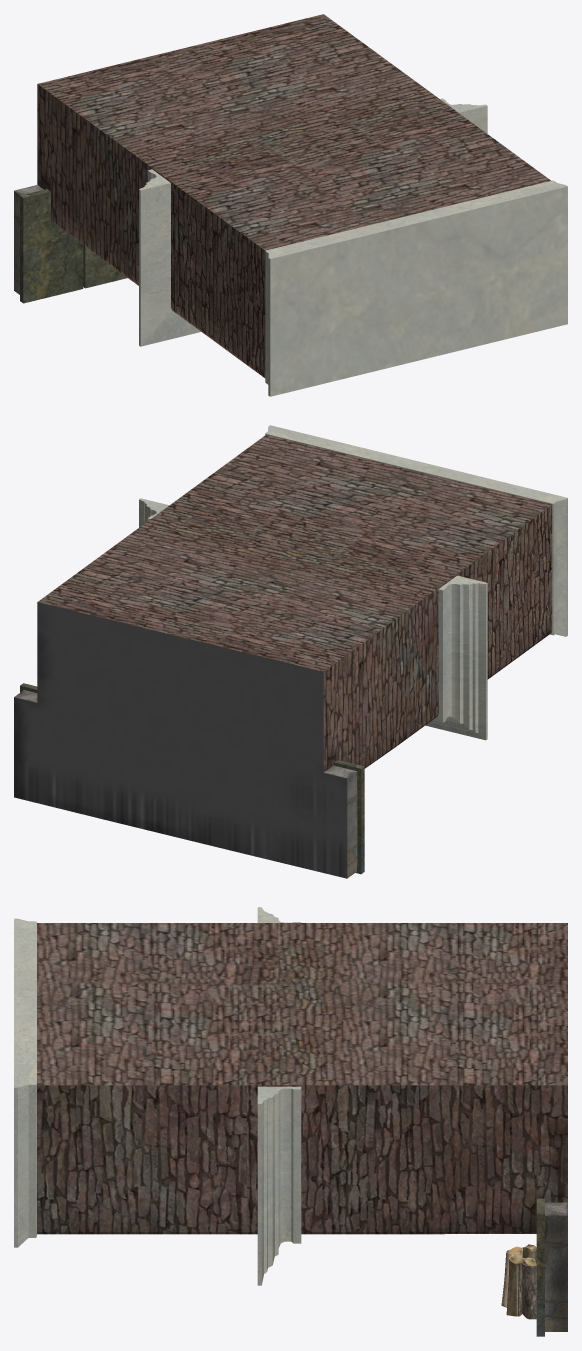
File: 13110_Fireplace_v2_l3.obj
3 renders of one model, top to bottom at view 1: azimuth 30°, elevation 25°; view 2: azimuth 150°, elevation 25°; view 3: azimuth 270°, elevation 25°, orthographic. The views are drawn at different scales.
Visible parts, largest first — view 1: 13110_fireplace_base, 13110_fireplace_top, 13110_fireplace_middle, 13110_fireplace_bricks; view 2: 13110_fireplace_base, 13110_fireplace_middle, 13110_fireplace_top, 13110_fireplace_bricks; view 3: 13110_fireplace_base, 13110_fireplace_middle, 13110_fireplace_top, 13110_fireplace_bricks, 13110_fireplace_woods_05, 13110_fireplace_woods_01.
Part boxes in pixels (<box>): 13110_fireplace_base: <box>14,14,550,378</box>; 13110_fireplace_top: <box>265,180,567,396</box>; 13110_fireplace_middle: <box>139,98,487,346</box>; 13110_fireplace_bricks: <box>20,189,127,303</box>; 13110_fireplace_base: <box>14,435,552,878</box>; 13110_fireplace_middle: <box>139,498,487,740</box>; 13110_fireplace_top: <box>265,425,567,636</box>; 13110_fireplace_bricks: <box>20,683,364,874</box>; 13110_fireplace_base: <box>37,923,567,1331</box>; 13110_fireplace_middle: <box>257,907,301,1285</box>; 13110_fireplace_top: <box>14,918,36,1247</box>; 13110_fireplace_bricks: <box>536,1198,544,1336</box>; 13110_fireplace_woods_05: <box>521,1257,536,1319</box>; 13110_fireplace_woods_01: <box>506,1254,523,1316</box>.
Bounding box in the file's own units: 82.73 × 46.42 × 98.43.
7 materials, 7 textured.
